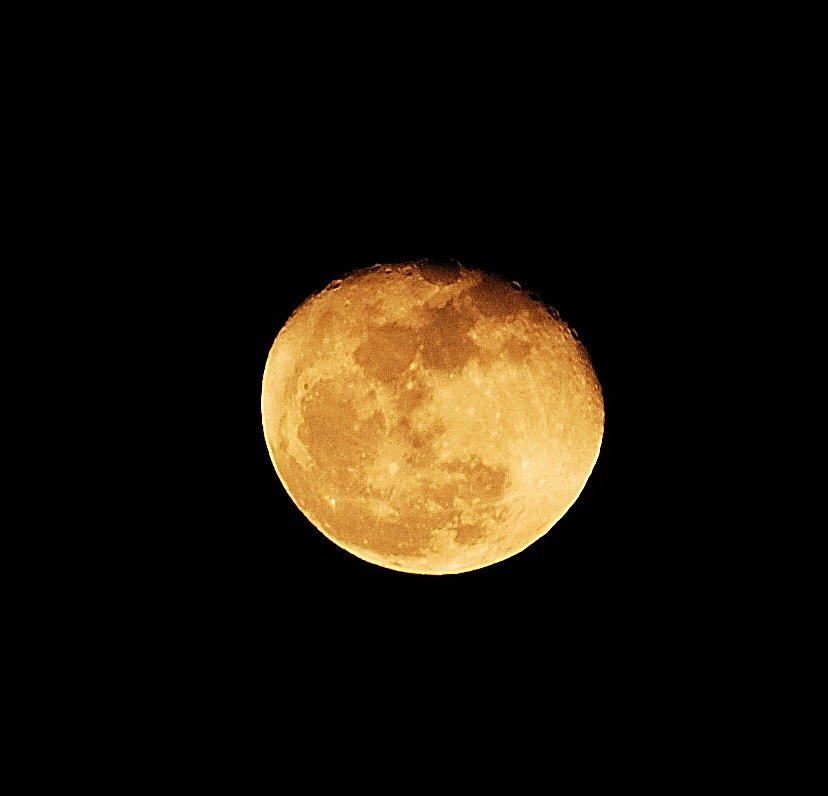crater: (413, 257, 474, 303), (512, 462, 568, 500), (363, 449, 419, 486), (364, 261, 390, 282), (500, 273, 523, 296), (325, 278, 348, 301), (295, 378, 317, 392)
